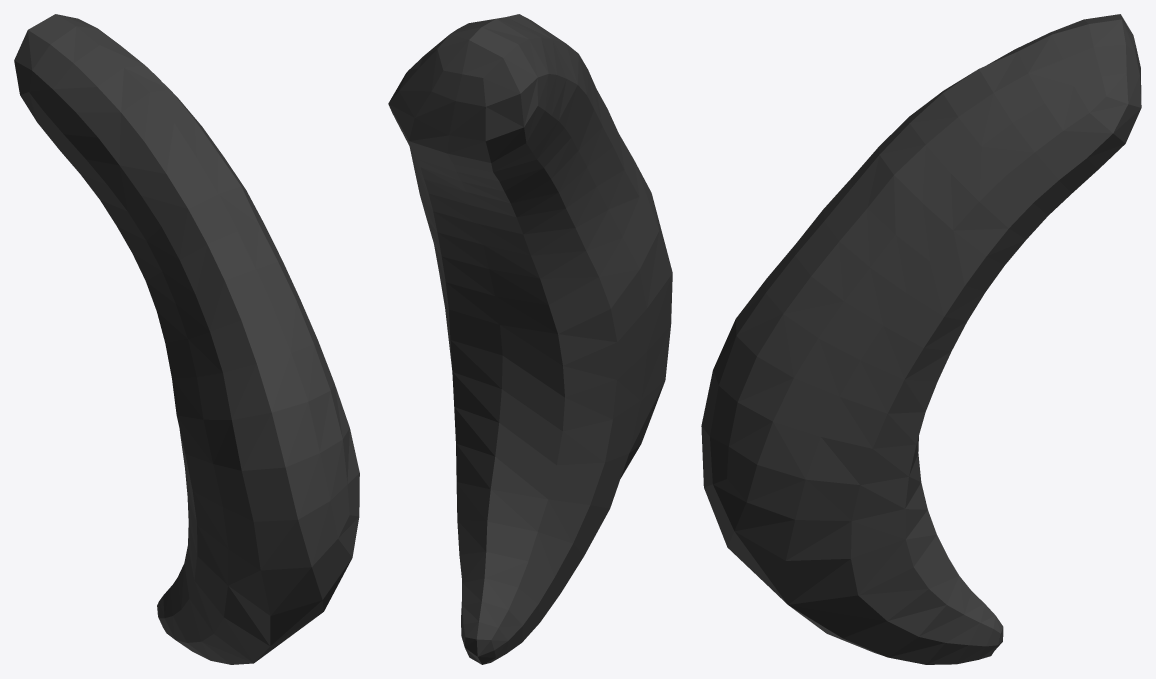
Rendered from R_max_canine_copy000.glb.
The picture shows the model from 3 angles, left to right: view 1: azimuth 30°, elevation 25°; view 2: azimuth 150°, elevation 25°; view 3: azimuth 270°, elevation 25°; orthographic projection. The views are drawn at different scales.
Visible parts, largest first — view 1: R_max_canine_copy000; view 2: R_max_canine_copy000; view 3: R_max_canine_copy000.
Part boxes in pixels (x1,y1,x2,y2): R_max_canine_copy000: (14,14,359,664); R_max_canine_copy000: (388,14,672,664); R_max_canine_copy000: (701,14,1141,664).
Bounding box in the file's own units: 0.2191 × 0.6754 × 0.4366.
Materials: 1 (1 with a texture image).
